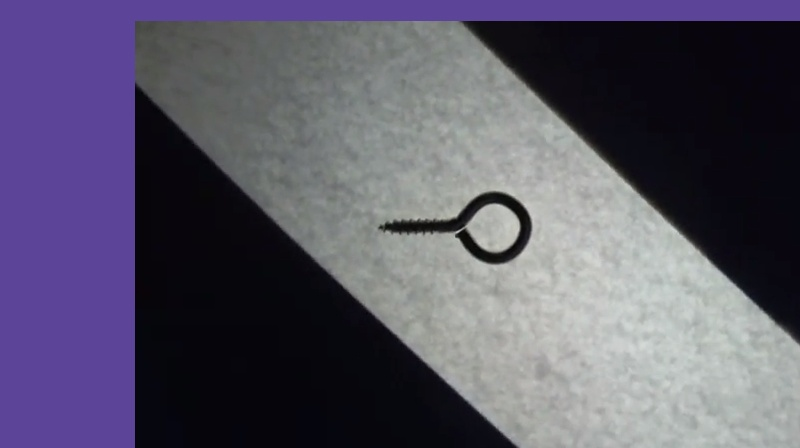O001: (372, 189, 536, 264)
